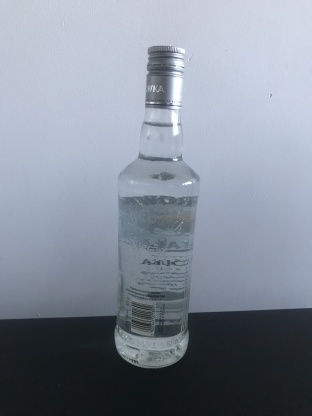nakretka: (144, 43, 187, 112)
